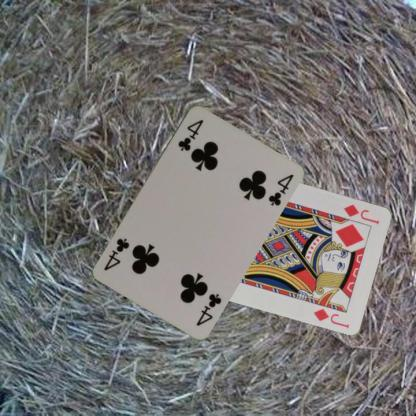4c: (193, 290, 223, 327), (175, 116, 205, 152)
Jd: (341, 201, 381, 225)
